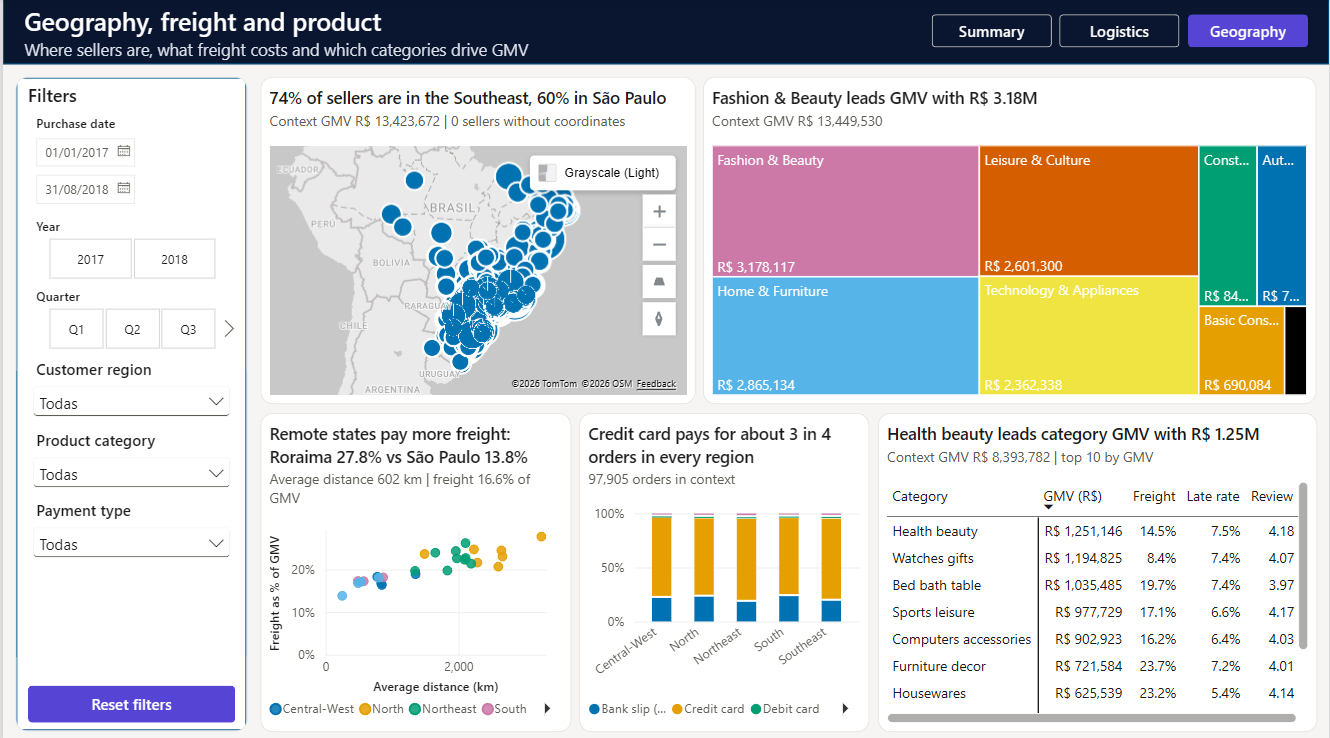

This screenshot's page, from the dashboard's own definition file:
{"tool":"powerbi","page":{"name":"Geography, freight and product","canvas":[1280,720],"ordinal":2},"visuals":[{"type":"shape","box":[0,0,1280,64],"z":0},{"type":"shape","box":[12,76,224,632],"z":0},{"type":"textbox","box":[20,6,640,54],"z":1000},{"type":"textbox","box":[24,82,200,28],"z":1000},{"type":"actionButton","box":[896,16,116,32],"z":2000},{"type":"actionButton","box":[1020,16,116,32],"z":2000},{"type":"actionButton","box":[1144,16,116,32],"z":2000},{"type":"actionButton","box":[680,18,180,28],"z":2000},{"type":"slicer","fields":{"Values":["dim_date.date"]},"box":[24,112,200,92],"z":3000},{"type":"slicer","fields":{"Values":["dim_date.year"]},"box":[24,212,200,60],"z":3000},{"type":"slicer","fields":{"Values":["dim_date.quarter_label"]},"box":[24,280,200,60],"z":3000},{"type":"slicer","fields":{"Values":["dim_customer.region_name"]},"box":[24,348,200,60],"z":3000},{"type":"slicer","fields":{"Values":["dim_product.macro_name"]},"box":[24,416,200,60],"z":3000},{"type":"slicer","fields":{"Values":["dim_payment_type.payment_name"]},"box":[24,484,200,60],"z":3000},{"type":"actionButton","box":[24,664,200,36],"z":3500},{"type":"azureMap","title":"74% of sellers are in the Southeast, 60% in São Paulo","fields":{"Y":["dim_seller.lat"],"X":["dim_seller.lng"],"Size":["_Measures.GMV"]},"box":[248,76,420,316],"z":4000},{"type":"treemap","title":"Fashion & Beauty leads GMV with R$ 3.18M","fields":{"Group":["dim_product.macro_name","dim_product.category_name"],"Values":["_Measures.GMV"]},"box":[676,76,592,316],"z":4000},{"type":"scatterChart","title":"Remote states pay more freight: Roraima 27.8% vs São Paulo 13.8%","fields":{"Category":["dim_customer.state_full"],"Series":["dim_customer.region_name"],"X":["_Measures.Avg Distance km"],"Y":["_Measures.Freight Ratio"]},"box":[248,400,300,308],"z":4000},{"type":"hundredPercentStackedColumnChart","title":"Credit card pays for about 3 in 4 orders in every region","fields":{"Category":["dim_customer.region_name"],"Series":["dim_payment_type.payment_name"],"Y":["_Measures.Orders"]},"box":[556,400,280,308],"z":4000},{"type":"pivotTable","title":"Health beauty leads category GMV with R$ 1.25M","fields":{"Rows":["dim_product.macro_name","dim_product.category_name"],"Values":["_Measures.GMV","_Measures.Freight Ratio","_Measures.Late Rate %","_Measures.Avg Review"]},"box":[844,400,424,308],"z":4000}]}

Visuals, with their boxes in screenshot pixels (x1, y1, x2, y2), scaled from the page's 1280x720 canvas onto the 1330x738 screenshot:
shape: {"left": 0, "top": 0, "right": 1329, "bottom": 66}
shape: {"left": 12, "top": 78, "right": 245, "bottom": 726}
textbox: {"left": 21, "top": 6, "right": 686, "bottom": 61}
textbox: {"left": 25, "top": 84, "right": 233, "bottom": 113}
actionButton: {"left": 931, "top": 16, "right": 1052, "bottom": 49}
actionButton: {"left": 1060, "top": 16, "right": 1180, "bottom": 49}
actionButton: {"left": 1189, "top": 16, "right": 1309, "bottom": 49}
actionButton: {"left": 707, "top": 18, "right": 894, "bottom": 47}
slicer - dim_date.date: {"left": 25, "top": 115, "right": 233, "bottom": 209}
slicer - dim_date.year: {"left": 25, "top": 217, "right": 233, "bottom": 279}
slicer - dim_date.quarter_label: {"left": 25, "top": 287, "right": 233, "bottom": 348}
slicer - dim_customer.region_name: {"left": 25, "top": 357, "right": 233, "bottom": 418}
slicer - dim_product.macro_name: {"left": 25, "top": 426, "right": 233, "bottom": 488}
slicer - dim_payment_type.payment_name: {"left": 25, "top": 496, "right": 233, "bottom": 558}
actionButton: {"left": 25, "top": 681, "right": 233, "bottom": 717}
"74% of sellers are in the Southeast, 60% in São Paulo" azureMap: {"left": 258, "top": 78, "right": 694, "bottom": 402}
"Fashion & Beauty leads GMV with R$ 3.18M" treemap: {"left": 702, "top": 78, "right": 1318, "bottom": 402}
"Remote states pay more freight: Roraima 27.8% vs São Paulo 13.8%" scatterChart: {"left": 258, "top": 410, "right": 569, "bottom": 726}
"Credit card pays for about 3 in 4 orders in every region" hundredPercentStackedColumnChart: {"left": 578, "top": 410, "right": 869, "bottom": 726}
"Health beauty leads category GMV with R$ 1.25M" pivotTable: {"left": 877, "top": 410, "right": 1318, "bottom": 726}
